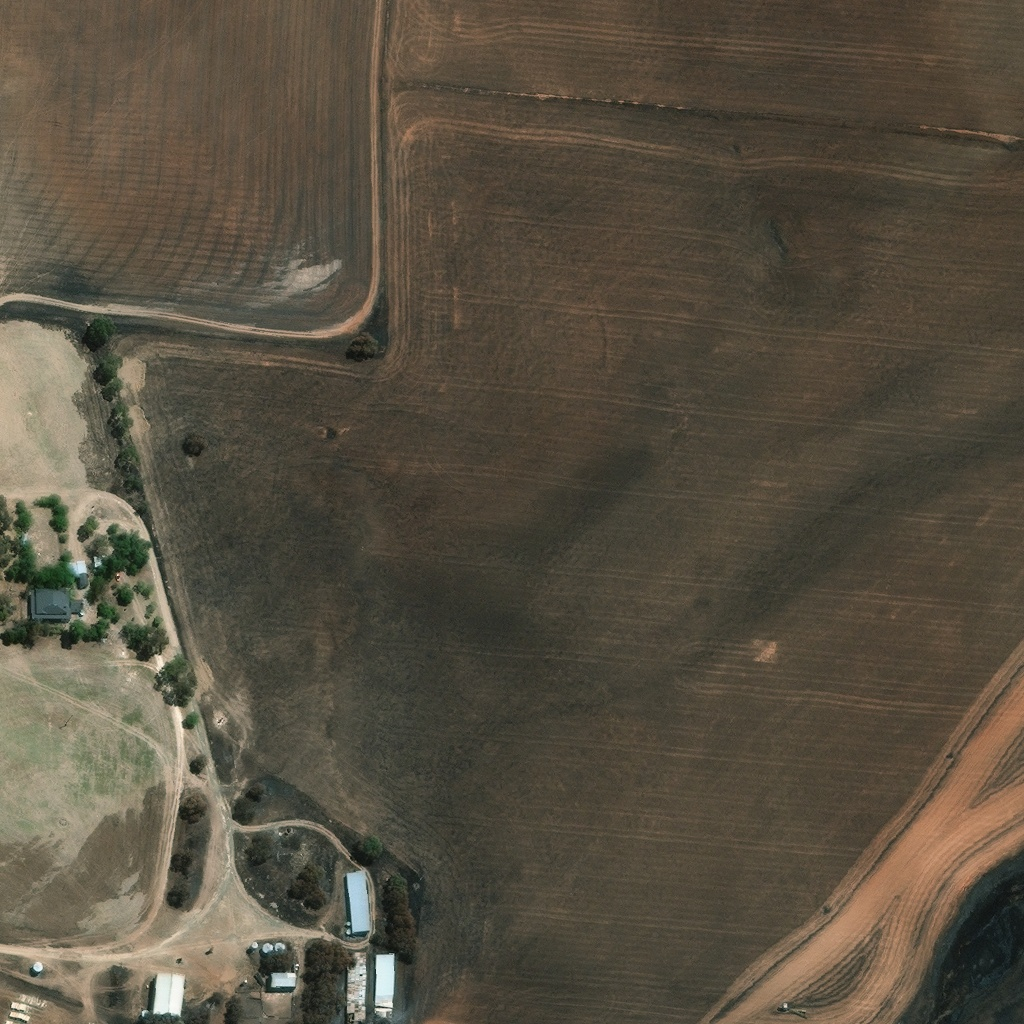0 no-damage: (28, 595, 81, 625), (346, 872, 370, 933), (152, 974, 184, 1019), (375, 953, 394, 1014), (63, 564, 85, 591), (269, 974, 294, 988), (253, 970, 266, 984), (93, 559, 106, 572), (32, 961, 44, 972), (274, 942, 285, 953), (261, 943, 272, 953), (140, 1007, 151, 1016), (249, 944, 256, 951), (345, 927, 352, 934), (344, 919, 351, 925)
1 minor-damage: (346, 951, 366, 1023)
4 un-classified: (68, 562, 74, 567)
